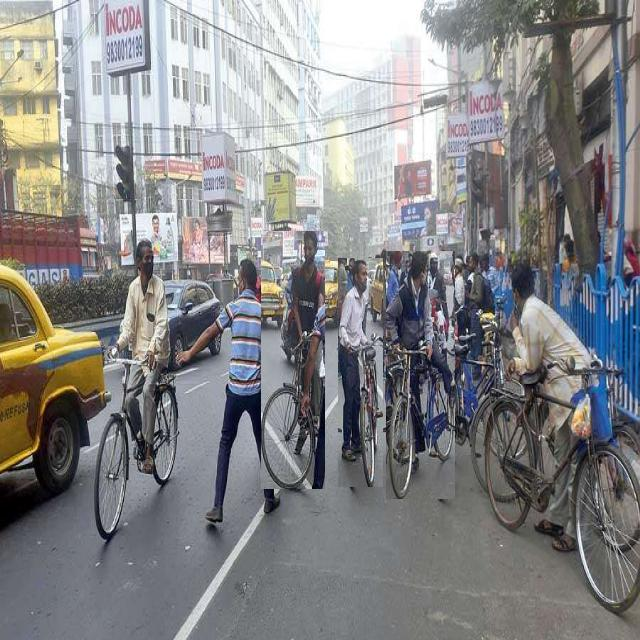bicycle: (485, 265, 640, 613), (94, 238, 178, 539), (386, 252, 455, 499), (261, 232, 325, 489), (339, 259, 383, 487)
